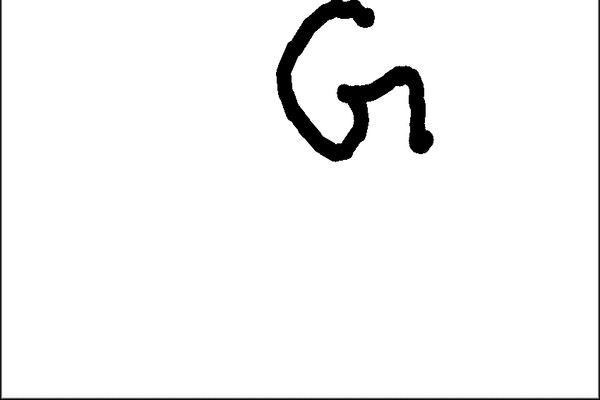G: (272, 0, 437, 168)
